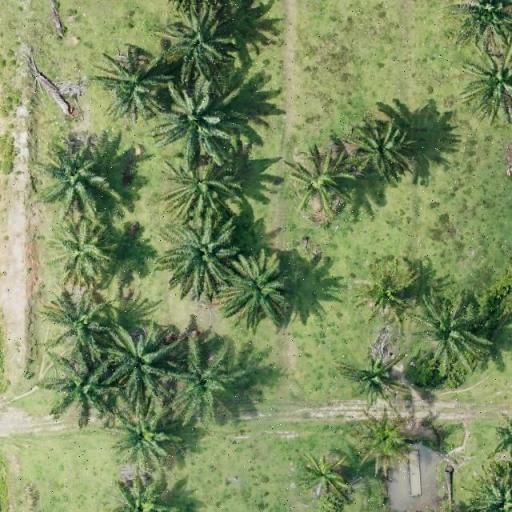Ganoderma: (297, 158, 347, 202), (59, 230, 106, 275), (352, 358, 399, 399), (122, 422, 170, 462), (356, 423, 402, 462), (304, 458, 344, 496), (365, 270, 403, 309)
